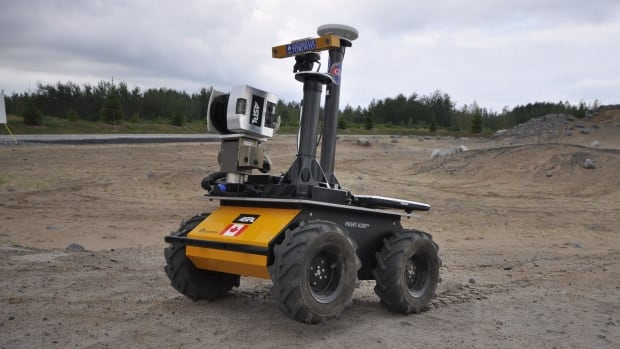husky: (163, 22, 442, 325)
